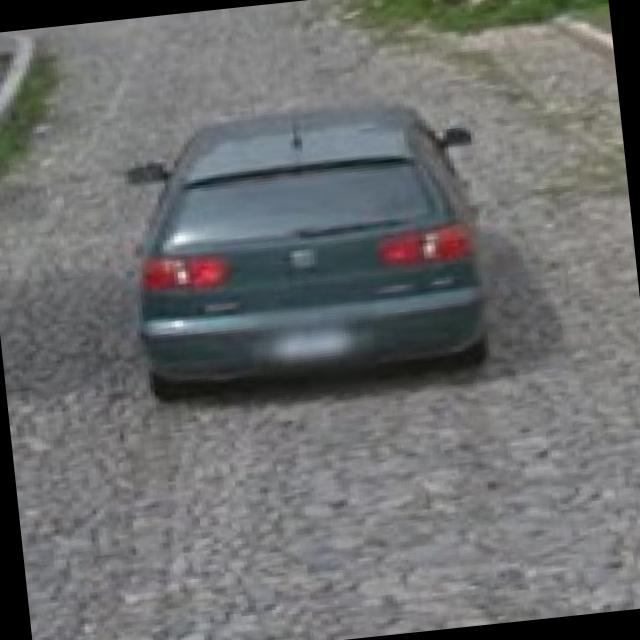car: (128, 98, 508, 412)
